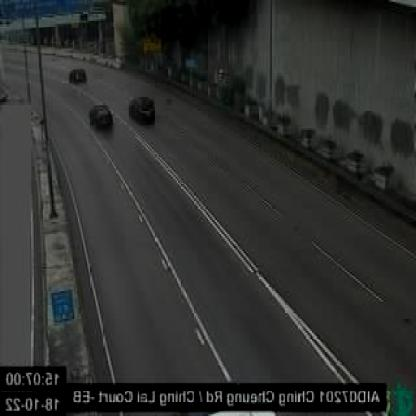Car: (128, 93, 156, 127), (87, 102, 115, 132), (68, 66, 87, 86)
